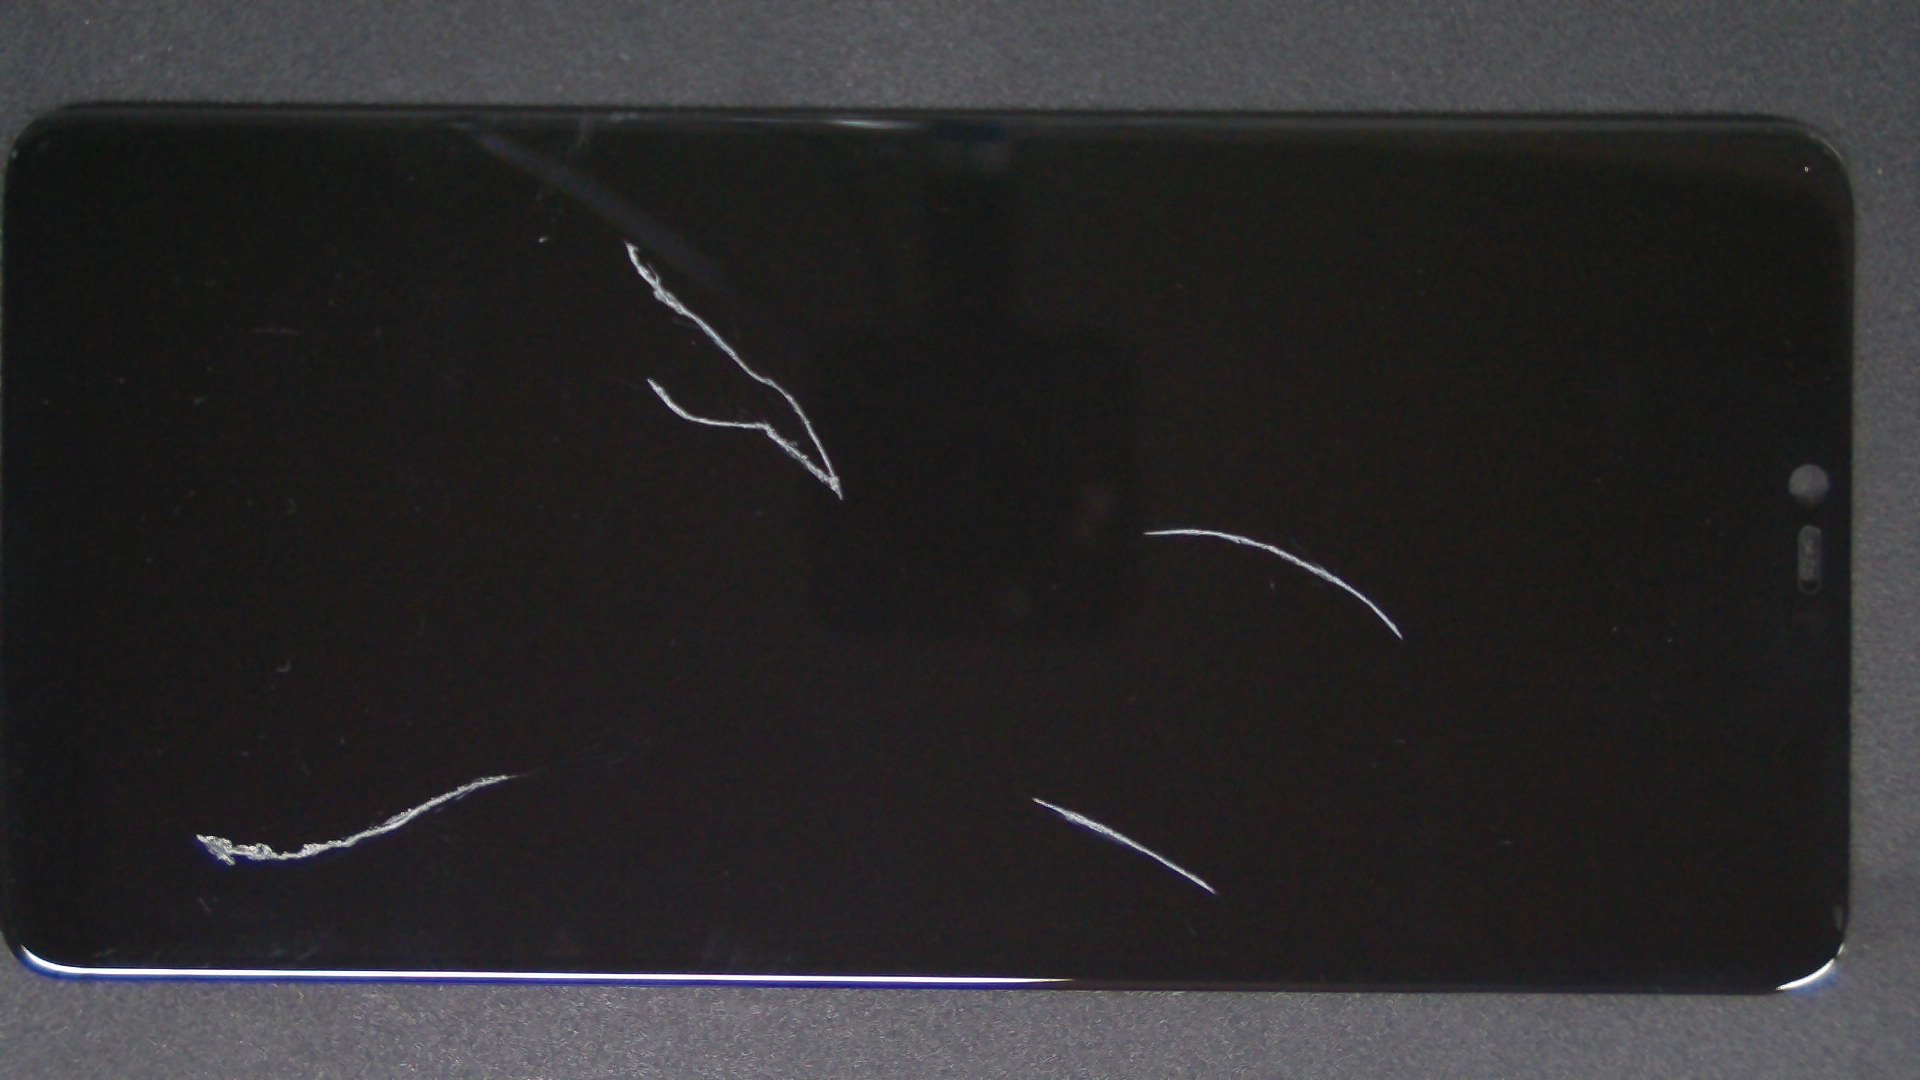oil: (516, 397, 1548, 1080), (599, 262, 1795, 791), (253, 386, 758, 1080), (311, 116, 935, 361)
